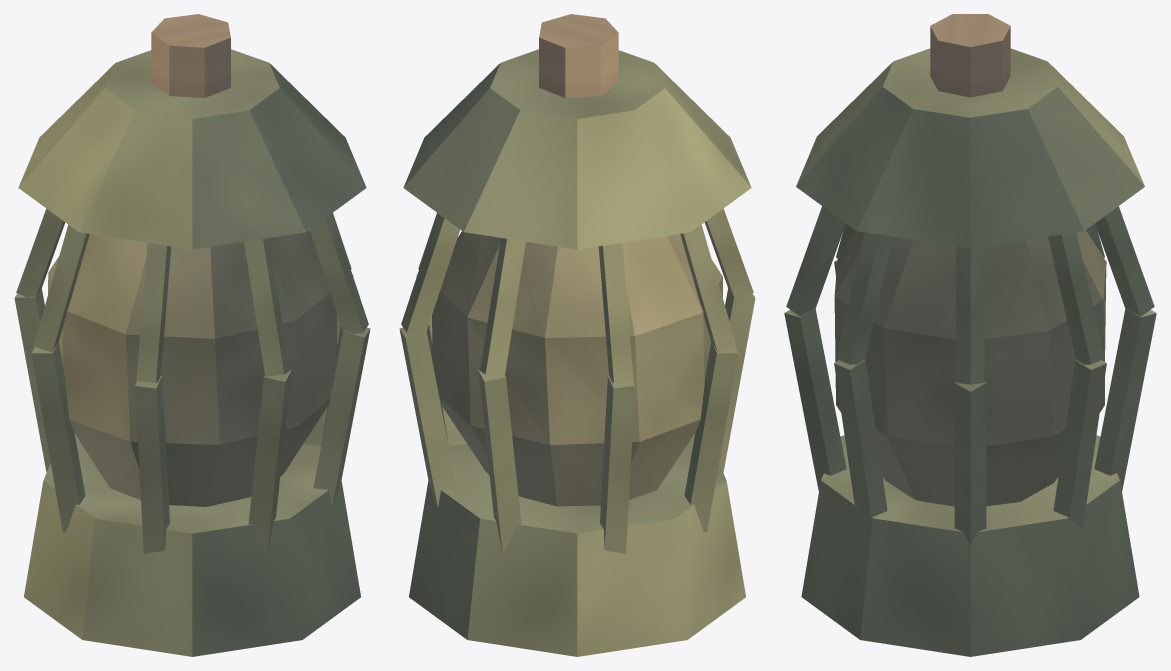
The model's file is watch_green_dark.glb.
3 views of the same model, side by side, from view 1: azimuth 30°, elevation 25°; view 2: azimuth 150°, elevation 25°; view 3: azimuth 270°, elevation 25° (orthographic).
Visible parts, largest first — view 1: Wegwachtlaterne.002; view 2: Wegwachtlaterne.002; view 3: Wegwachtlaterne.002.
Boxes of the visible parts, x1=… form: Wegwachtlaterne.002: x1=14, y1=14, x2=370, y2=656; Wegwachtlaterne.002: x1=399, y1=14, x2=755, y2=656; Wegwachtlaterne.002: x1=784, y1=14, x2=1156, y2=656.
Bounding box in the file's own units: 0.4687 × 0.77 × 0.4687.
Materials: 2 (2 with a texture image).
